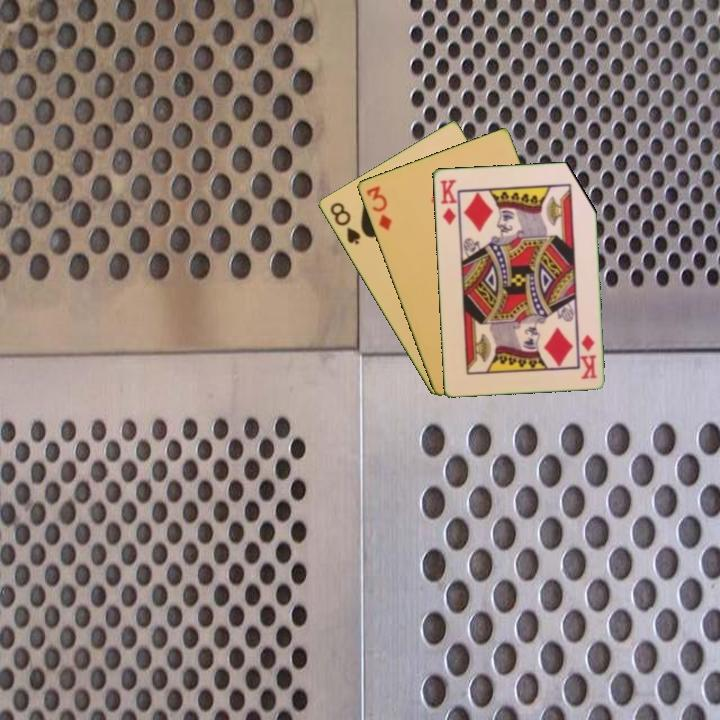3d: (362, 182, 394, 233)
8s: (326, 198, 363, 248)
Kd: (437, 176, 460, 227), (577, 330, 599, 381)
